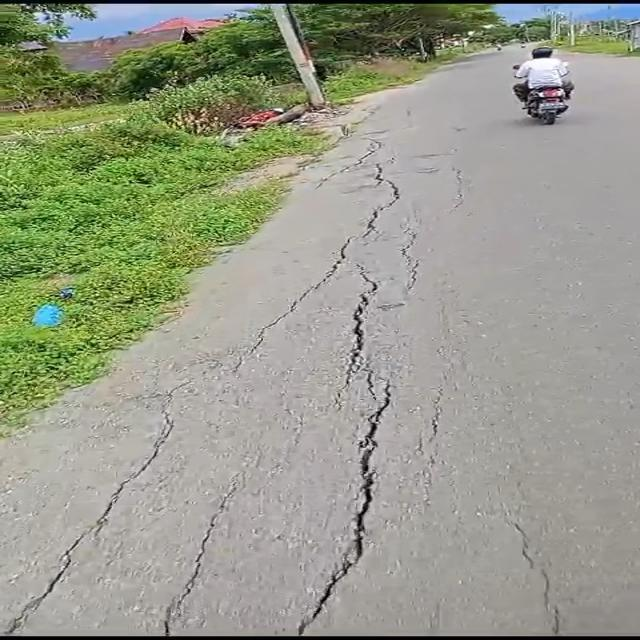Memanjang: (0, 399, 200, 637), (275, 261, 400, 639), (153, 479, 259, 640)
